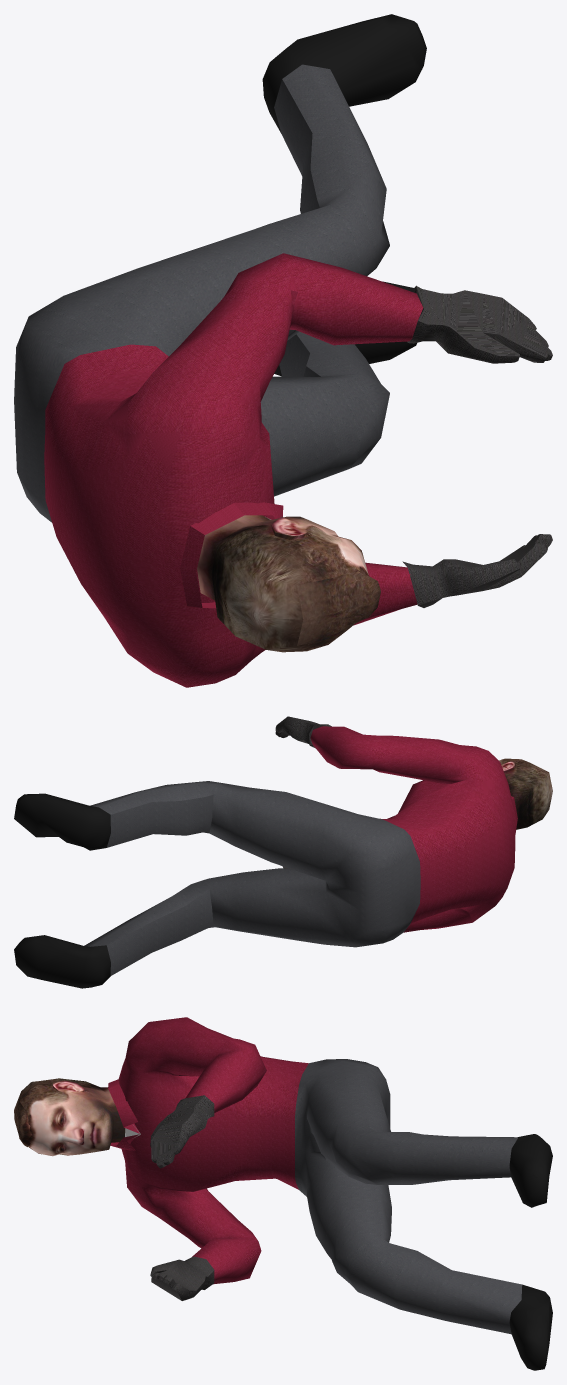
File: driver.obj
3 renders of one model, top to bottom at view 1: azimuth 30°, elevation 25°; view 2: azimuth 150°, elevation 25°; view 3: azimuth 270°, elevation 25°, orthographic. The views are drawn at different scales.
Parts seen in each view (by area): view 1: Shirt, Pants, 11_-_Default, glove, Shoes, 12_-_Default; view 2: Pants, Shirt, Shoes, 11_-_Default, glove; view 3: Pants, Shirt, 11_-_Default, Shoes, glove.
Boxes of the visible parts, x1,y1,x2,y2 form: Shirt: (44,253,423,687); Pants: (14,64,389,522); 11_-_Default: (197,515,380,652); glove: (402,285,552,607); Shoes: (262,14,426,376); 12_-_Default: (297,570,375,645); Pants: (84,781,420,975); Shirt: (310,726,517,932); Shoes: (14,793,110,988); 11_-_Default: (499,758,552,829); glove: (275,716,331,868); Pants: (295,1059,522,1334); Shirt: (108,1017,308,1284); 11_-_Default: (18,1078,125,1156); Shoes: (509,1134,552,1370); glove: (150,1095,214,1300).
Size of the model in its own units: 0.9701 by 0.5587 by 1.19.
Materials: 7 (5 with a texture image).
